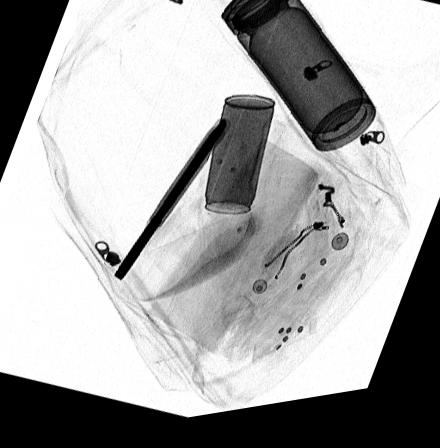Pliers: (112, 125, 228, 284)
